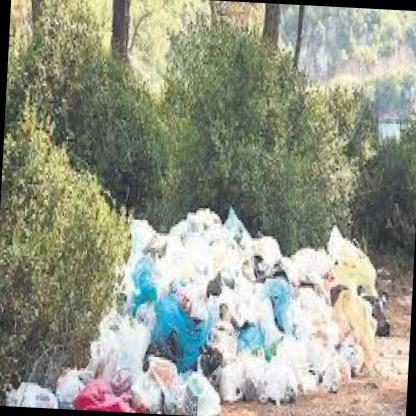Garbage: (142, 195, 305, 415), (82, 210, 202, 412), (272, 219, 384, 403), (0, 376, 150, 411)
